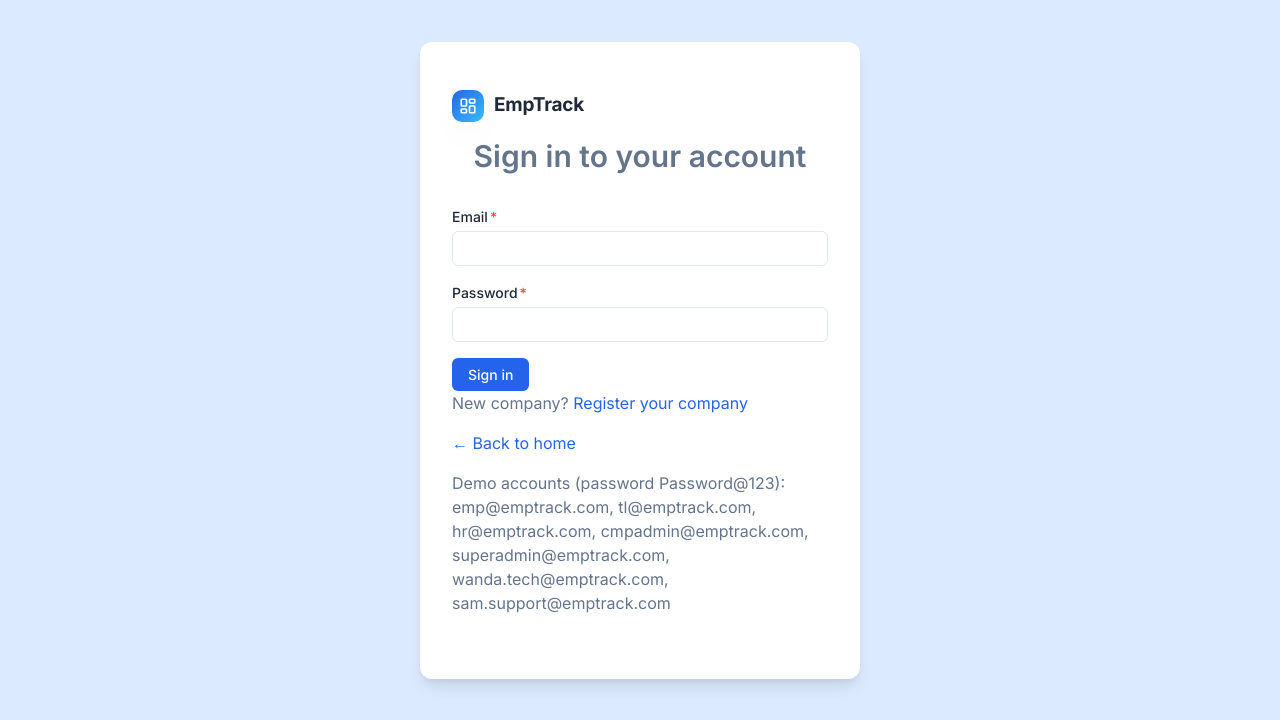
Test case: while logged in › keeps the login form visible for an authenticated user who visits /login
Step 1. Type "emp@emptrack.com" into the field labelled "Email*" → (640, 248), box [452, 230, 828, 266]
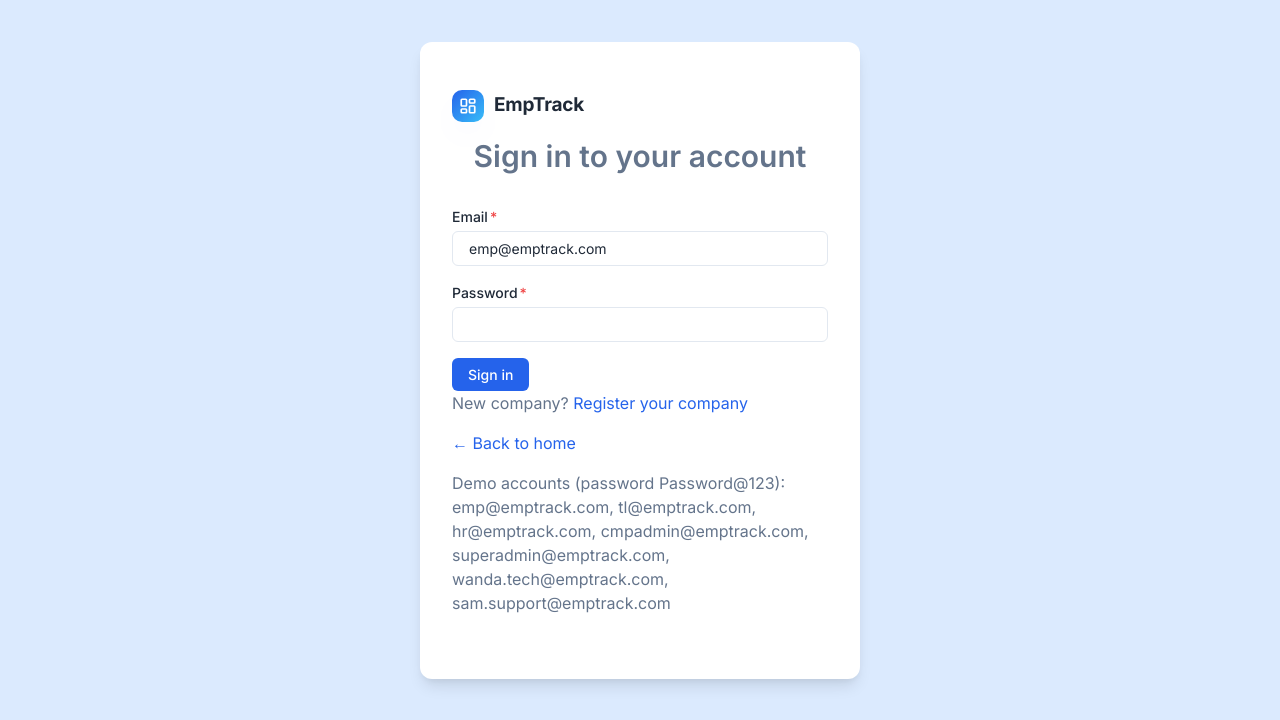
Step 2. Type "Password@123" into the password field labelled "Password*" → (640, 324), box [452, 306, 828, 342]
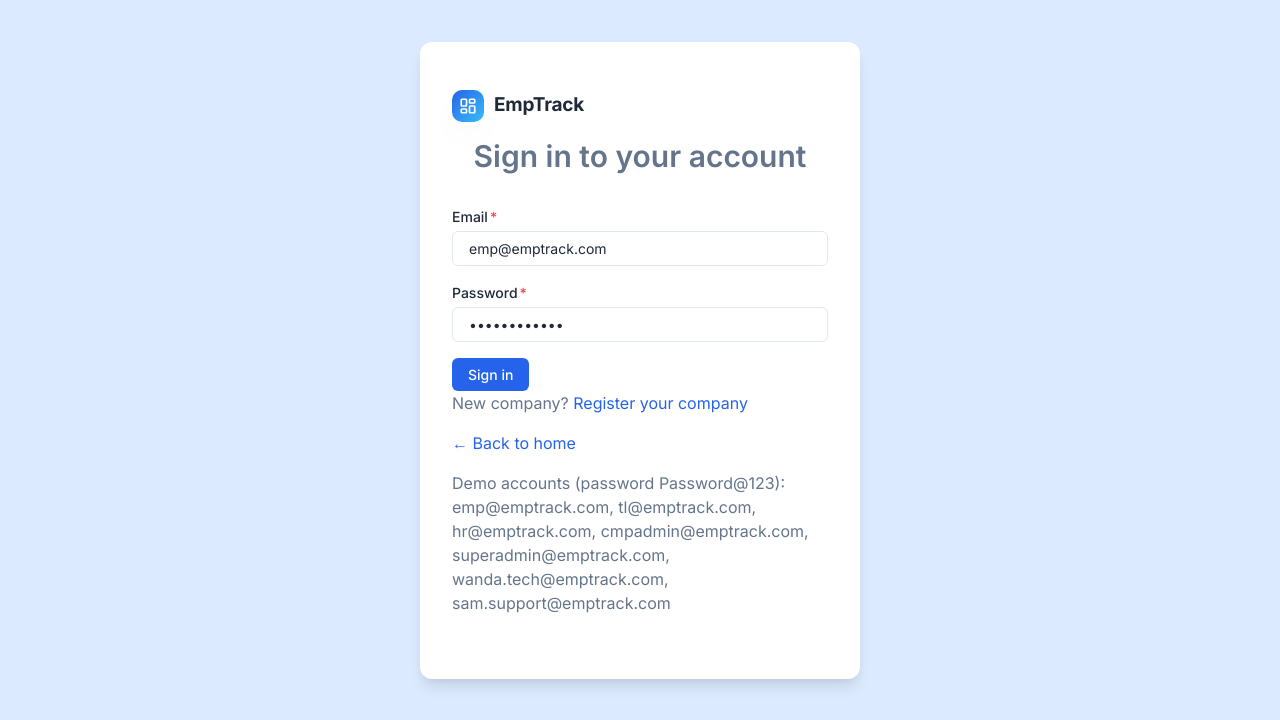
Step 3. Click the button "Sign in" → (491, 374), box [452, 358, 529, 390]
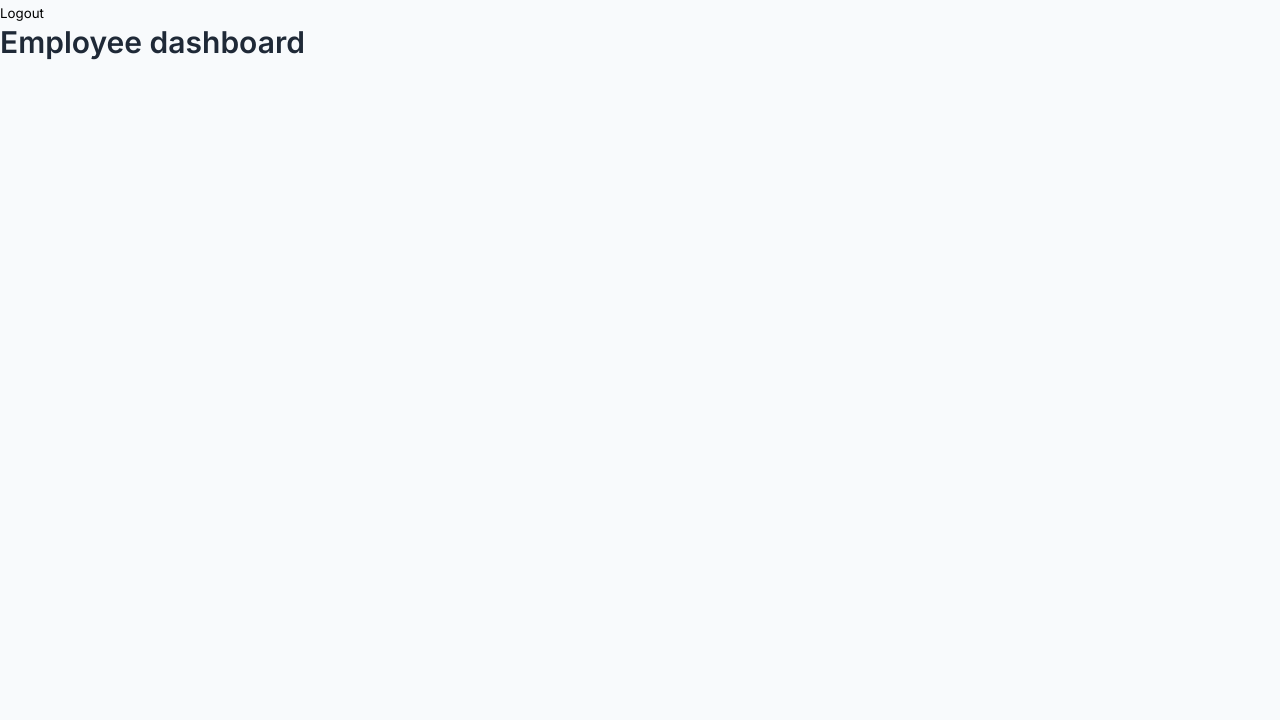
Now the heading "Employee dashboard" is shown, box [0, 24, 305, 60]
